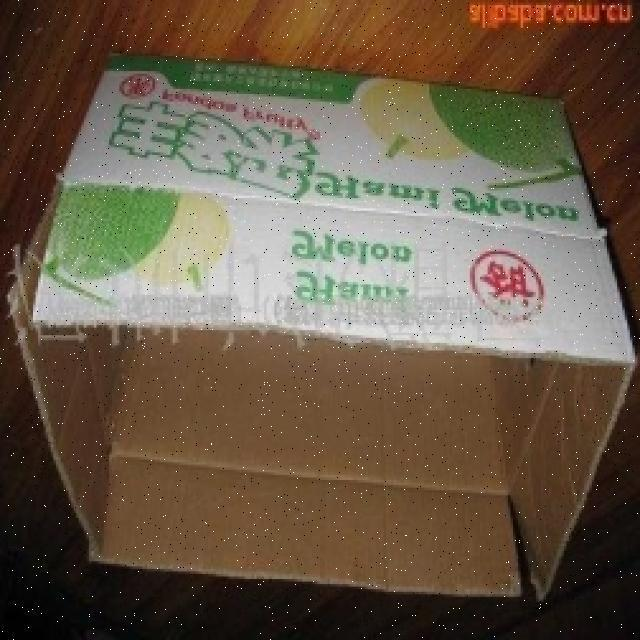box: (13, 44, 624, 603)
